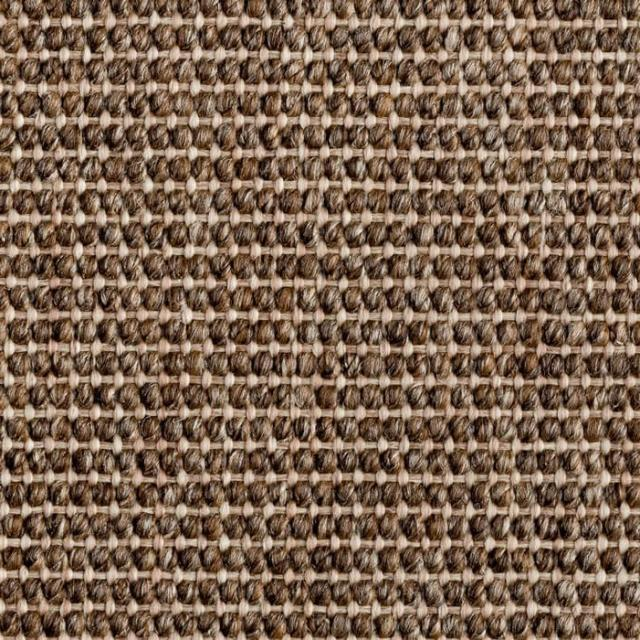Knot: (356, 346, 388, 382), (315, 348, 343, 382), (272, 351, 298, 387), (273, 221, 300, 255), (274, 318, 301, 352), (544, 271, 569, 307), (384, 345, 411, 378), (564, 221, 590, 255), (234, 188, 262, 219), (508, 416, 533, 450), (540, 310, 565, 344), (134, 385, 164, 413), (217, 578, 245, 608), (504, 513, 532, 543), (122, 186, 150, 216), (190, 186, 218, 216), (594, 545, 620, 577), (338, 351, 364, 383), (321, 216, 346, 249), (596, 480, 620, 514), (357, 512, 384, 542), (192, 58, 218, 89), (615, 222, 640, 254), (596, 576, 619, 610), (133, 348, 163, 374), (224, 512, 250, 542), (590, 224, 616, 254), (430, 286, 460, 312), (296, 346, 317, 383), (74, 154, 98, 186), (58, 608, 82, 640), (586, 287, 610, 319), (214, 185, 237, 218), (47, 317, 75, 344), (293, 281, 314, 317), (86, 382, 115, 408), (380, 419, 405, 449), (250, 319, 272, 353), (380, 480, 404, 511), (203, 447, 226, 479), (429, 320, 452, 352), (156, 514, 182, 542), (0, 351, 26, 379), (556, 384, 584, 410), (564, 258, 590, 286), (294, 256, 320, 284), (159, 322, 189, 346), (354, 447, 378, 477), (564, 320, 588, 350), (362, 254, 386, 284), (406, 253, 430, 283), (599, 512, 620, 546), (537, 348, 558, 382), (119, 254, 141, 286), (120, 158, 147, 184), (18, 550, 46, 575), (184, 223, 209, 251), (132, 418, 156, 447), (415, 92, 438, 122), (0, 513, 23, 543), (134, 514, 157, 544), (268, 514, 291, 544), (147, 123, 169, 154), (479, 320, 499, 354), (148, 185, 168, 219), (258, 188, 278, 222), (21, 516, 47, 542), (5, 318, 31, 344), (406, 290, 432, 316), (584, 351, 609, 378), (122, 92, 146, 120), (78, 126, 102, 154), (30, 160, 54, 188), (202, 510, 226, 538), (559, 478, 580, 510), (244, 418, 268, 446), (586, 256, 610, 284), (57, 189, 81, 217), (341, 185, 362, 217), (19, 118, 38, 153), (398, 56, 420, 86), (507, 92, 529, 122), (150, 92, 172, 122), (581, 320, 603, 350), (162, 256, 182, 289), (434, 190, 456, 220), (459, 2, 484, 28), (545, 124, 570, 150), (36, 118, 54, 154), (355, 546, 379, 573), (231, 352, 254, 380), (69, 448, 92, 476), (184, 254, 207, 282), (281, 187, 304, 215), (385, 287, 408, 315), (460, 156, 480, 188), (608, 380, 628, 412), (206, 318, 226, 350), (566, 286, 586, 318), (478, 286, 498, 318), (618, 122, 640, 151), (302, 121, 324, 150), (463, 94, 484, 124), (227, 416, 248, 446), (225, 452, 246, 482), (487, 481, 508, 511), (98, 284, 119, 314), (139, 353, 164, 378), (613, 256, 637, 282), (202, 482, 226, 508), (228, 322, 252, 348), (241, 580, 265, 606), (266, 578, 290, 604), (396, 580, 422, 604), (270, 386, 296, 410), (292, 386, 318, 410), (78, 188, 102, 214), (330, 609, 350, 640), (86, 609, 106, 640), (102, 125, 124, 153), (588, 191, 610, 219), (163, 225, 185, 253), (168, 187, 190, 215), (274, 254, 296, 282), (320, 286, 342, 314), (368, 90, 388, 120), (347, 90, 367, 120), (174, 90, 194, 120), (240, 610, 260, 640), (90, 513, 110, 543), (135, 576, 155, 606), (228, 256, 253, 280), (78, 282, 98, 312), (28, 284, 48, 314), (46, 546, 69, 572), (512, 580, 535, 606), (555, 516, 578, 542), (335, 448, 358, 474), (405, 450, 428, 476), (230, 224, 256, 247), (414, 156, 436, 183), (88, 575, 110, 602), (562, 353, 580, 386), (487, 90, 508, 118), (608, 322, 629, 350), (0, 612, 21, 640), (504, 192, 525, 220), (348, 157, 368, 186), (19, 584, 48, 604), (366, 186, 386, 215), (174, 546, 198, 570), (290, 514, 314, 538), (310, 486, 334, 510), (380, 448, 404, 472), (362, 385, 386, 409), (410, 192, 434, 216), (28, 256, 52, 280), (277, 287, 295, 319), (189, 349, 212, 374), (434, 222, 457, 247), (234, 154, 256, 180), (602, 450, 624, 476), (506, 612, 528, 638), (136, 486, 162, 508), (158, 484, 180, 510), (44, 417, 66, 443), (534, 514, 556, 540), (407, 420, 429, 446), (54, 283, 76, 309), (322, 254, 344, 280), (545, 250, 564, 280), (0, 550, 21, 577), (166, 156, 186, 184), (22, 610, 42, 638), (201, 414, 221, 442), (50, 350, 70, 378), (46, 448, 66, 476), (465, 578, 485, 606), (514, 480, 534, 508), (250, 450, 270, 478), (494, 382, 514, 410), (250, 290, 270, 318), (364, 320, 384, 348), (296, 317, 316, 345), (368, 222, 388, 250), (371, 123, 389, 154), (214, 119, 229, 156), (373, 60, 396, 84), (258, 61, 282, 84), (390, 617, 414, 640), (90, 452, 114, 475), (96, 349, 120, 372), (536, 386, 560, 409), (510, 1, 532, 26), (84, 61, 106, 86), (102, 157, 124, 182), (597, 612, 619, 637), (112, 549, 134, 574), (230, 384, 252, 409), (340, 322, 362, 347), (618, 0, 639, 26), (306, 95, 327, 121), (84, 96, 105, 122), (527, 158, 548, 184), (119, 451, 140, 477), (251, 351, 268, 383), (376, 26, 396, 53), (332, 24, 350, 54), (329, 120, 344, 156), (256, 156, 276, 183), (72, 320, 90, 350), (226, 481, 246, 508), (332, 390, 359, 410), (546, 191, 566, 218), (500, 222, 518, 252), (299, 218, 317, 248), (253, 254, 271, 284), (345, 286, 363, 316), (363, 287, 383, 314), (420, 54, 439, 82), (394, 94, 413, 122), (51, 255, 74, 278), (618, 28, 640, 52), (284, 62, 308, 84), (618, 95, 640, 119), (265, 616, 287, 640), (151, 584, 175, 606), (2, 452, 24, 476), (372, 581, 394, 605), (354, 422, 376, 446), (496, 354, 518, 378), (210, 287, 232, 311), (30, 222, 52, 246), (102, 190, 124, 214), (0, 123, 17, 154), (161, 446, 178, 477), (0, 580, 21, 605), (328, 90, 346, 119), (532, 2, 552, 28), (350, 60, 370, 86), (480, 127, 500, 153), (614, 162, 640, 182), (56, 160, 76, 186), (4, 483, 24, 509), (70, 482, 90, 508), (117, 484, 137, 510), (179, 515, 199, 541), (180, 384, 200, 410), (472, 448, 492, 474), (494, 448, 514, 474), (473, 416, 493, 442), (452, 417, 472, 443), (472, 384, 492, 410), (480, 192, 500, 218), (166, 222, 186, 248), (142, 220, 162, 246), (611, 195, 638, 214), (238, 120, 254, 152), (120, 320, 136, 352), (520, 314, 536, 346), (128, 123, 145, 153), (108, 610, 125, 640), (157, 546, 174, 576), (47, 514, 69, 537), (584, 451, 606, 474), (443, 30, 464, 54), (221, 26, 242, 50), (154, 24, 172, 52), (109, 93, 130, 117), (22, 91, 40, 119), (506, 124, 524, 152), (58, 122, 76, 150), (0, 156, 14, 192), (610, 352, 628, 380), (267, 548, 288, 572), (452, 448, 470, 476), (544, 224, 562, 252), (433, 255, 451, 283), (320, 184, 338, 212), (400, 28, 420, 53), (463, 58, 483, 83), (330, 61, 350, 86), (413, 123, 433, 148), (259, 122, 279, 147), (190, 157, 210, 182), (290, 615, 310, 640), (176, 615, 196, 640), (558, 421, 578, 446), (430, 417, 450, 442), (188, 286, 208, 311), (624, 515, 640, 546), (624, 577, 640, 608), (108, 24, 127, 50), (439, 58, 458, 84), (597, 94, 616, 120), (531, 90, 550, 116), (46, 578, 65, 604), (181, 449, 200, 475), (120, 383, 139, 409), (246, 23, 264, 50), (202, 547, 220, 574), (426, 484, 444, 511), (400, 481, 418, 508), (122, 286, 140, 313), (389, 191, 407, 218), (70, 516, 92, 538), (290, 418, 312, 440), (0, 93, 21, 116), (442, 617, 463, 640), (596, 2, 616, 26), (486, 2, 506, 26), (310, 26, 330, 50), (219, 60, 239, 84), (60, 60, 80, 84), (459, 127, 479, 151), (174, 125, 190, 155), (620, 610, 636, 640), (196, 614, 216, 638), (68, 418, 88, 442), (354, 580, 374, 604), (554, 582, 574, 606), (402, 516, 422, 540), (576, 516, 596, 540), (449, 481, 465, 511), (453, 383, 473, 407), (585, 388, 605, 412), (481, 219, 496, 251), (461, 190, 481, 214), (455, 288, 475, 312), (454, 322, 470, 352), (121, 225, 141, 249), (349, 124, 366, 152), (161, 418, 178, 446), (465, 26, 484, 51), (95, 418, 114, 443), (512, 28, 530, 54), (508, 58, 526, 84), (176, 60, 194, 86), (42, 94, 60, 120), (568, 124, 586, 150), (503, 158, 521, 184), (578, 611, 596, 637), (554, 612, 572, 638), (532, 612, 550, 638), (490, 614, 508, 640), (217, 612, 235, 638), (112, 516, 130, 542), (204, 384, 222, 410), (33, 350, 51, 376), (166, 354, 192, 372), (510, 548, 528, 574), (248, 512, 266, 538), (429, 448, 447, 474), (568, 191, 586, 217), (520, 258, 538, 284), (500, 320, 518, 346), (476, 354, 494, 380), (458, 221, 476, 247), (98, 256, 116, 282), (211, 224, 229, 250), (96, 320, 114, 346), (188, 320, 206, 346), (300, 160, 321, 182), (65, 580, 86, 602), (545, 160, 565, 183), (390, 160, 410, 183), (94, 484, 114, 507), (3, 386, 26, 406), (422, 551, 442, 574), (490, 517, 510, 540), (337, 482, 357, 505), (428, 386, 448, 409), (408, 355, 428, 378), (562, 449, 579, 476), (286, 26, 305, 50), (266, 26, 285, 50), (526, 126, 545, 150), (436, 160, 455, 184), (309, 612, 328, 636), (383, 516, 402, 540), (315, 420, 334, 444), (210, 256, 229, 280), (110, 58, 128, 83), (240, 92, 258, 117), (279, 157, 297, 182), (420, 615, 438, 640), (27, 484, 45, 509), (72, 386, 90, 411), (430, 353, 448, 378), (98, 222, 116, 247), (138, 320, 156, 345), (624, 482, 640, 510), (468, 482, 484, 510), (274, 416, 290, 444), (344, 252, 360, 280), (600, 28, 617, 54), (23, 26, 40, 52), (549, 92, 566, 118), (216, 92, 233, 118), (392, 124, 409, 150), (29, 448, 46, 474), (197, 578, 214, 604), (497, 254, 514, 280), (530, 550, 551, 571), (552, 2, 572, 24), (374, 0, 396, 20), (552, 30, 572, 52), (176, 28, 196, 50), (618, 62, 640, 82), (150, 60, 170, 82), (312, 581, 332, 603), (424, 582, 446, 602), (490, 580, 510, 602), (425, 518, 445, 540), (468, 515, 488, 537), (387, 321, 406, 344), (440, 94, 455, 123), (574, 2, 592, 26), (200, 25, 218, 49), (528, 61, 546, 85), (62, 90, 80, 114), (212, 157, 230, 181), (146, 156, 164, 180), (469, 616, 487, 640), (351, 612, 369, 636), (90, 546, 108, 570), (208, 354, 226, 378), (32, 318, 50, 342), (72, 350, 90, 374), (118, 417, 136, 441), (488, 545, 504, 572), (526, 190, 544, 214), (480, 256, 498, 280), (456, 258, 474, 282), (234, 288, 252, 312), (154, 615, 171, 640), (132, 615, 149, 640), (56, 223, 73, 248), (337, 420, 352, 448), (386, 386, 407, 406), (0, 2, 19, 24), (422, 28, 441, 50), (532, 28, 548, 54), (488, 28, 504, 54), (480, 156, 496, 182), (368, 158, 384, 184), (134, 546, 150, 572), (182, 416, 198, 442), (538, 480, 554, 506), (361, 482, 377, 508), (294, 452, 310, 478), (512, 454, 538, 470), (38, 190, 54, 216), (145, 254, 161, 280), (576, 31, 594, 54), (132, 28, 150, 51), (536, 583, 554, 606), (398, 550, 416, 573), (15, 162, 32, 186), (330, 585, 354, 602), (76, 222, 93, 246), (409, 320, 426, 344), (626, 447, 640, 476), (88, 2, 108, 22), (2, 58, 18, 83), (180, 580, 200, 600), (536, 420, 556, 440), (302, 188, 318, 213), (410, 224, 430, 244), (352, 27, 371, 48), (120, 353, 139, 374), (22, 2, 40, 24), (598, 62, 616, 84), (130, 58, 148, 80), (326, 160, 344, 182), (30, 420, 48, 442), (576, 581, 594, 603), (554, 552, 572, 574), (294, 547, 312, 569), (224, 484, 242, 506), (252, 386, 270, 408), (626, 548, 640, 576), (184, 480, 198, 508), (582, 480, 596, 508), (386, 254, 400, 282), (592, 123, 609, 146), (441, 126, 456, 152), (614, 289, 630, 313), (50, 482, 66, 506), (288, 582, 304, 606), (248, 550, 264, 574), (528, 224, 544, 248), (168, 288, 184, 312), (14, 224, 30, 248), (321, 320, 337, 344), (420, 2, 439, 22), (44, 27, 62, 48), (573, 97, 591, 118), (262, 95, 280, 116), (333, 548, 351, 569), (17, 192, 35, 213), (352, 220, 365, 249), (311, 547, 326, 572), (146, 287, 161, 312), (311, 452, 328, 474), (405, 384, 422, 406), (162, 385, 178, 408), (270, 483, 286, 506), (272, 455, 288, 478), (520, 356, 536, 379), (88, 26, 102, 52), (282, 124, 296, 150), (627, 418, 640, 446), (226, 546, 240, 572), (579, 548, 593, 574), (496, 416, 510, 442), (283, 98, 302, 117), (108, 1, 126, 21), (309, 62, 327, 82), (244, 58, 259, 82), (198, 120, 210, 150), (570, 164, 588, 184), (68, 550, 86, 570), (140, 450, 155, 474), (314, 389, 332, 409), (14, 284, 26, 314), (13, 252, 28, 276), (1, 28, 18, 49), (22, 61, 38, 83), (48, 384, 64, 406), (466, 548, 482, 570), (454, 356, 470, 378), (258, 225, 271, 252), (44, 2, 62, 21), (446, 585, 464, 604), (448, 550, 466, 569), (386, 224, 403, 244), (46, 60, 59, 86), (196, 92, 210, 116), (111, 580, 127, 601), (338, 514, 352, 538), (252, 482, 266, 506), (524, 288, 538, 312), (67, 30, 82, 52), (378, 550, 393, 572), (490, 60, 503, 85), (68, 2, 86, 20), (376, 617, 394, 635), (584, 419, 602, 437), (42, 615, 56, 638), (540, 451, 554, 474), (576, 62, 592, 82), (554, 62, 570, 82), (8, 420, 24, 440), (498, 286, 511, 310), (0, 256, 12, 282), (220, 2, 242, 16), (518, 386, 532, 408), (316, 518, 331, 538), (0, 222, 10, 252), (594, 162, 608, 183), (294, 484, 306, 508), (80, 256, 96, 274), (610, 418, 623, 440), (30, 386, 44, 406), (630, 384, 640, 411), (0, 192, 9, 222), (448, 518, 462, 536), (0, 286, 9, 313), (631, 352, 640, 378), (448, 2, 460, 20), (630, 290, 638, 316), (630, 324, 638, 349)
